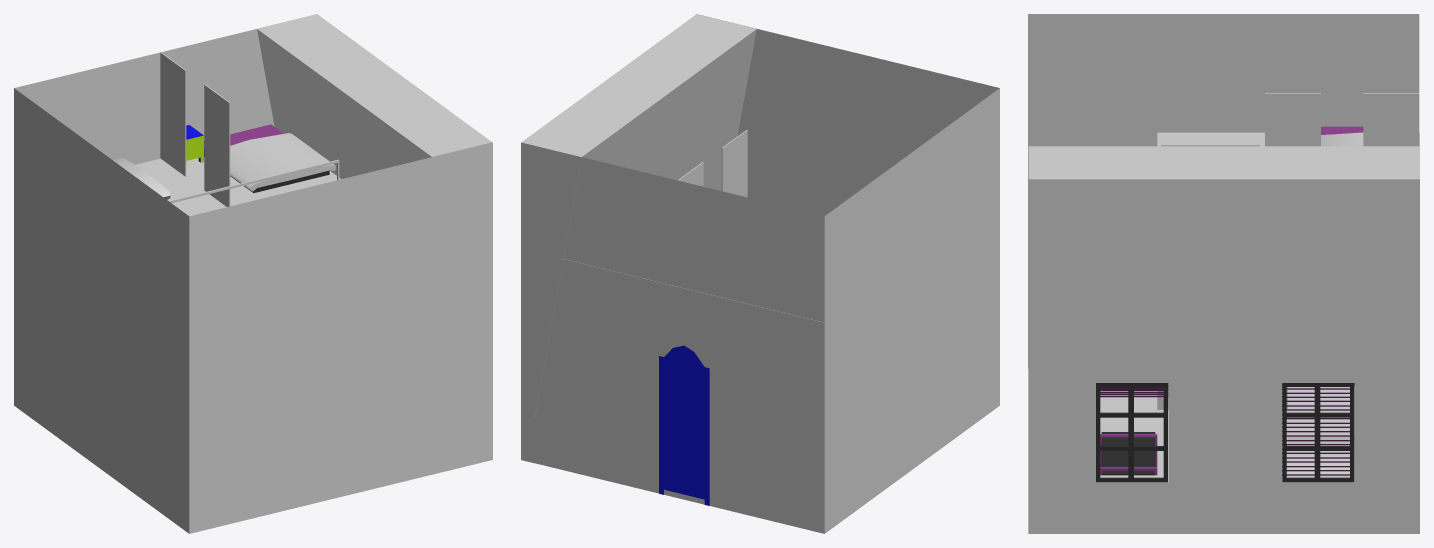
The model's file is Dortoir.FBX.
The picture shows the model from 3 angles, left to right: view 1: azimuth 30°, elevation 25°; view 2: azimuth 150°, elevation 25°; view 3: azimuth 270°, elevation 25°; orthographic projection. The views are drawn at different scales.
Visible parts, largest first — view 1: dortoire, mur fennetre dortoir, couette001, mezanine, rideaux, rideaux001, matelats, rambarde dortoire mezza, couette002, table de chevet001; view 2: dortoire, mur fennetre dortoir, armoire dortoir, mezanine, rideaux001; view 3: mur fennetre dortoir, dortoire, rideaux, rideaux001, malle, couette, mezanine, couette002.
Boxes of the visible parts, x1,y1,x2,y2 form: dortoire: (14, 29, 492, 533); mur fennetre dortoir: (257, 14, 491, 178); couette001: (230, 133, 335, 191); mezanine: (135, 157, 341, 216); rideaux: (160, 52, 186, 176); rideaux001: (204, 84, 230, 206); matelats: (204, 124, 329, 192); rambarde dortoire mezza: (169, 159, 339, 203); couette002: (113, 158, 170, 199); table de chevet001: (186, 125, 203, 162); dortoire: (521, 14, 999, 533); mur fennetre dortoir: (521, 14, 756, 463); armoire dortoir: (659, 345, 709, 505); mezanine: (522, 249, 824, 332); rideaux001: (721, 129, 747, 197); mur fennetre dortoir: (1028, 146, 1419, 533); dortoire: (1028, 14, 1419, 533); rideaux: (1363, 93, 1419, 146); rideaux001: (1265, 93, 1320, 146); malle: (1100, 432, 1157, 475); couette: (1287, 436, 1354, 474); mezanine: (1157, 132, 1419, 146); couette002: (1321, 132, 1363, 146).
Size of the model in its own units: 600 by 604 by 601.
